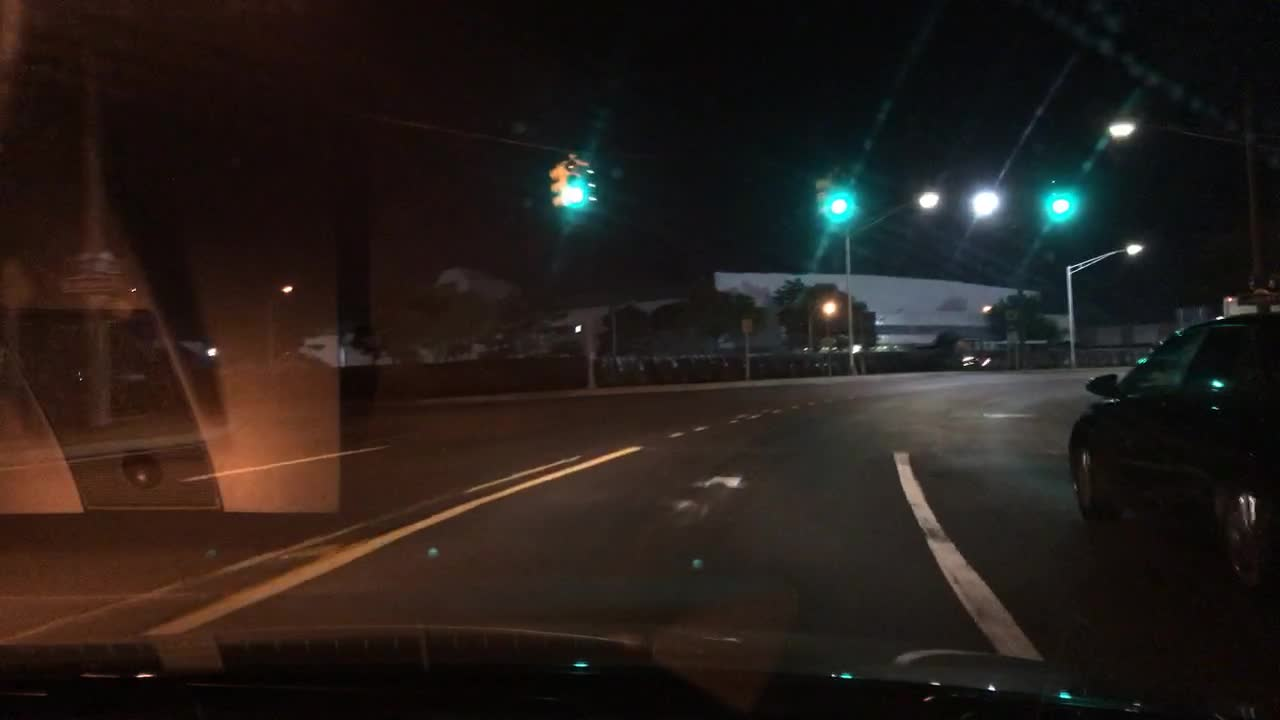car: (1066, 309, 1279, 587), (867, 337, 897, 353), (808, 336, 833, 354), (832, 341, 864, 354)
traffic light: (1049, 170, 1070, 216), (563, 152, 582, 202), (579, 162, 597, 207), (832, 170, 847, 219), (813, 174, 828, 218), (550, 164, 565, 206)
traffic sign: (64, 253, 125, 292), (739, 319, 754, 332)
